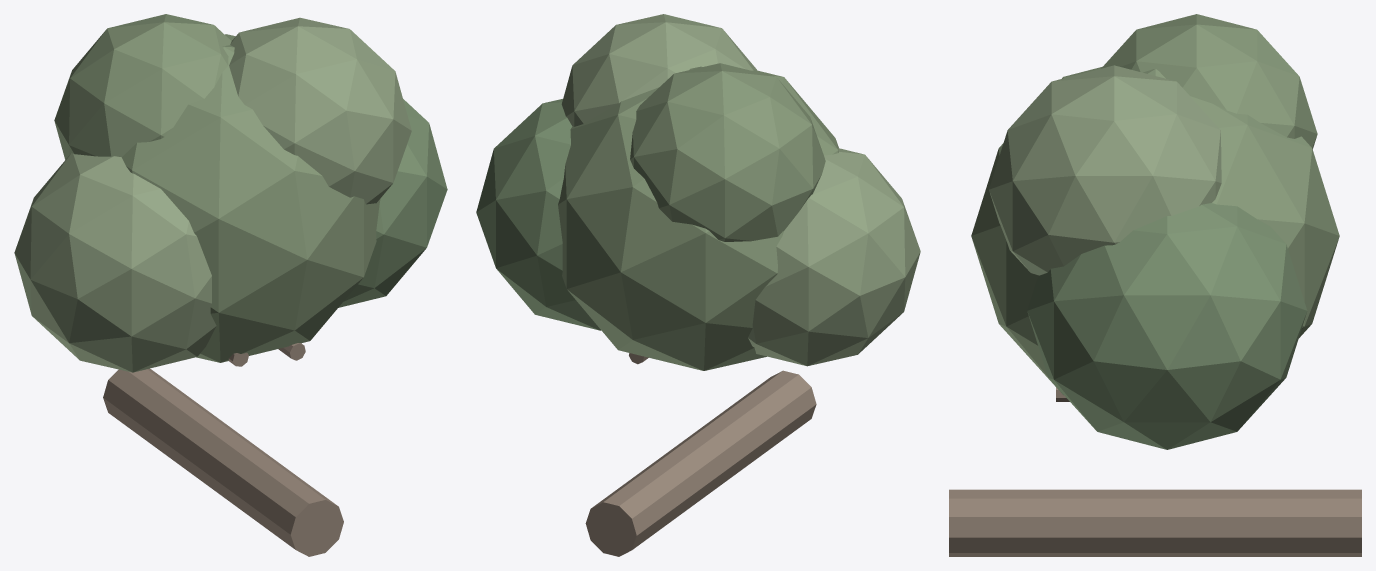
The model's file is tree.glb.
3 views of the same model, side by side, from view 1: azimuth 30°, elevation 25°; view 2: azimuth 150°, elevation 25°; view 3: azimuth 270°, elevation 25° (orthographic). The views are drawn at different scales.
Visible parts, largest first — view 1: foliage_0, foliage_1, foliage_4, foliage_3, trunk, foliage_2; view 2: foliage_0, foliage_3, foliage_1, trunk, foliage_2, foliage_4; view 3: foliage_2, foliage_4, trunk, foliage_0, foliage_3.
Part boxes in pixels (<box>): foliage_0: <box>122,34,380,362</box>; foliage_1: <box>14,153,216,372</box>; foliage_4: <box>229,17,411,204</box>; foliage_3: <box>54,14,231,159</box>; trunk: <box>103,368,343,556</box>; foliage_2: <box>338,99,447,307</box>; foliage_0: <box>558,66,838,370</box>; foliage_3: <box>630,63,825,241</box>; foliage_1: <box>748,148,920,366</box>; trunk: <box>585,370,816,556</box>; foliage_2: <box>476,99,600,330</box>; foliage_4: <box>561,14,756,126</box>; foliage_2: <box>1027,203,1307,449</box>; foliage_4: <box>989,65,1221,275</box>; trunk: <box>949,489,1361,556</box>; foliage_0: <box>971,66,1339,395</box>; foliage_3: <box>1101,14,1317,149</box>.
Bounding box in the file's own units: 3.58 × 3.79 × 2.8.
